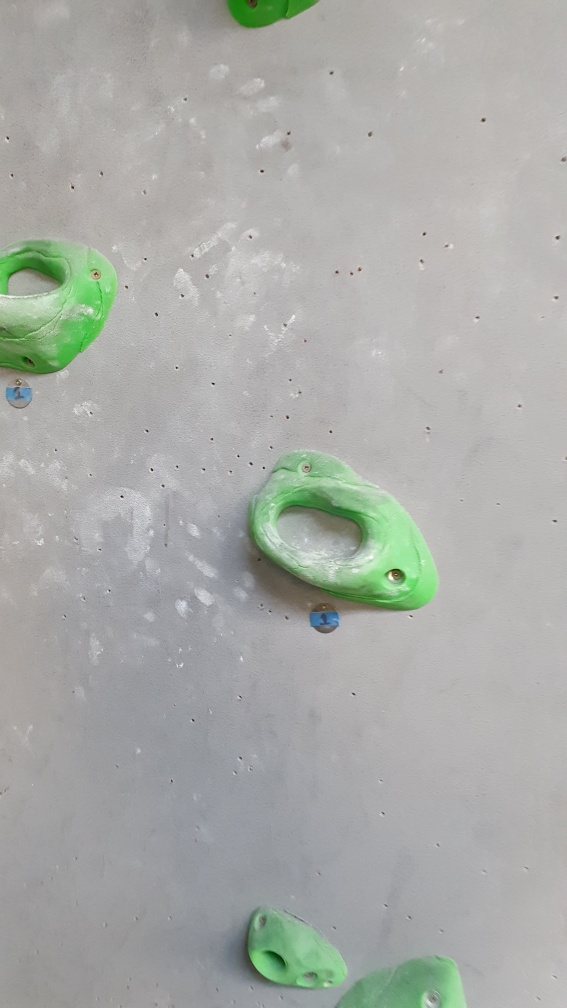Hand Start: (307, 597, 340, 635), (1, 376, 35, 412)
Pocket: (245, 452, 442, 617), (1, 240, 117, 376)
